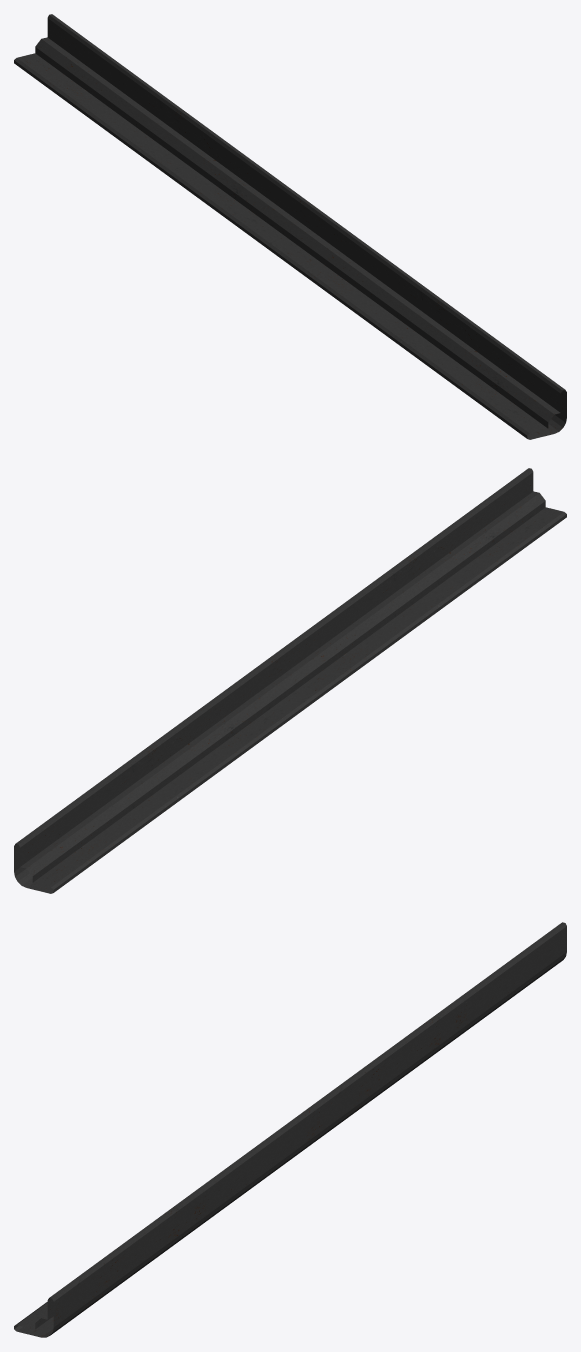
File: poll1.dae
3 views of the same model, one above another, from view 1: azimuth 30°, elevation 25°; view 2: azimuth 150°, elevation 25°; view 3: azimuth 330°, elevation 25° (orthographic).
Visible parts, largest first — view 1: instance_9.002; view 2: instance_9.002; view 3: instance_9.002.
Boxes of the visible parts, x1,y1,x2,y2 form: instance_9.002: (14,14,566,439); instance_9.002: (14,468,566,893); instance_9.002: (14,922,566,1337).
Bounding box in the file's own units: 0.1222 × 2.74 × 0.1222.
